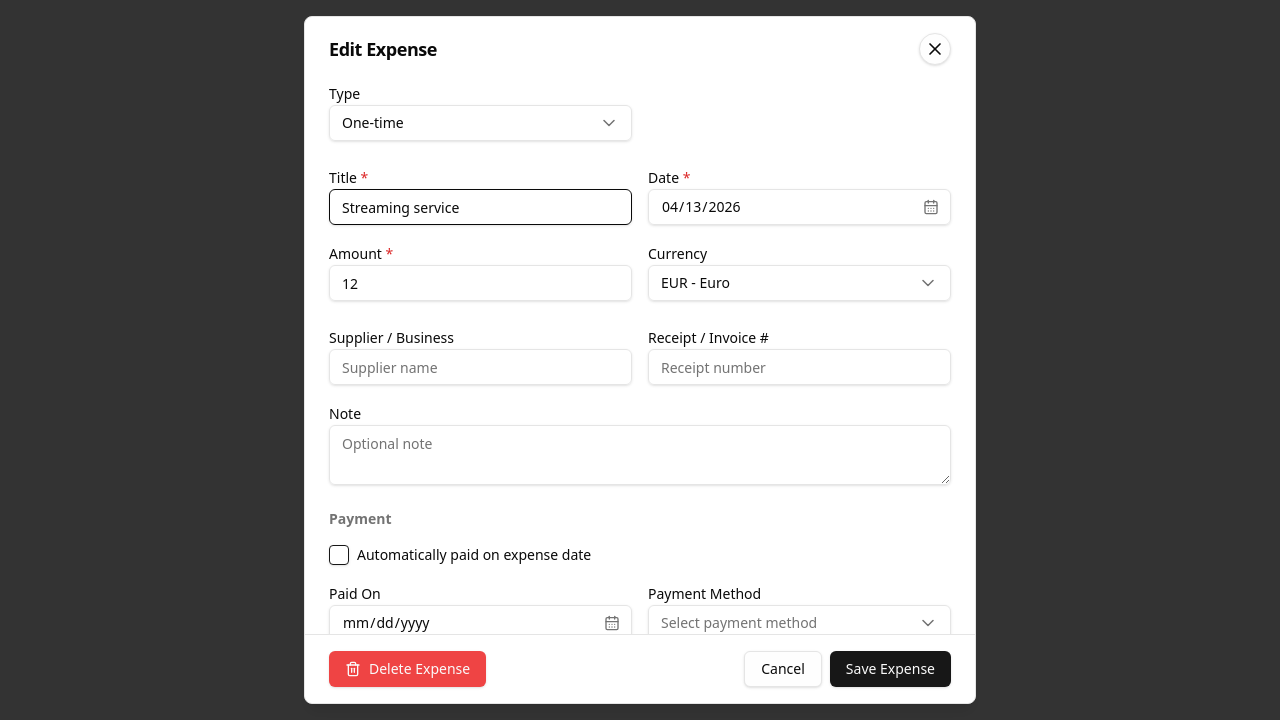
Test case: ExpenseModal › shows a responsive trash action and asks before deleting an expense
The image size is (1280, 720).
Expected: the icon with class "lucide-trash-2" is shown, x1=345 y1=661 x2=361 y2=677
Expected: the text with class "hidden" reads "Delete Expense", x1=369 y1=659 x2=470 y2=678
Click the button "Delete Expense": [408, 669] box x1=329 y1=651 x2=486 y2=687
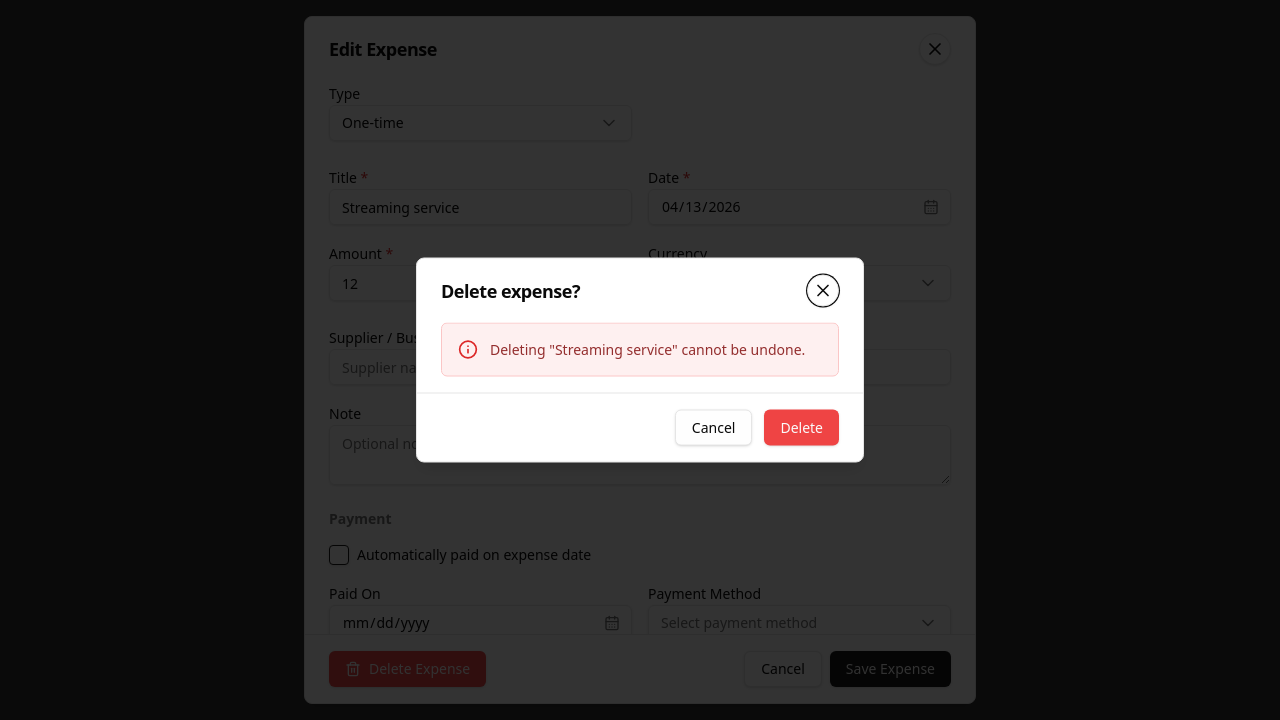
Expected: the heading "Delete expense?" is shown, x1=441 y1=278 x2=580 y2=302
